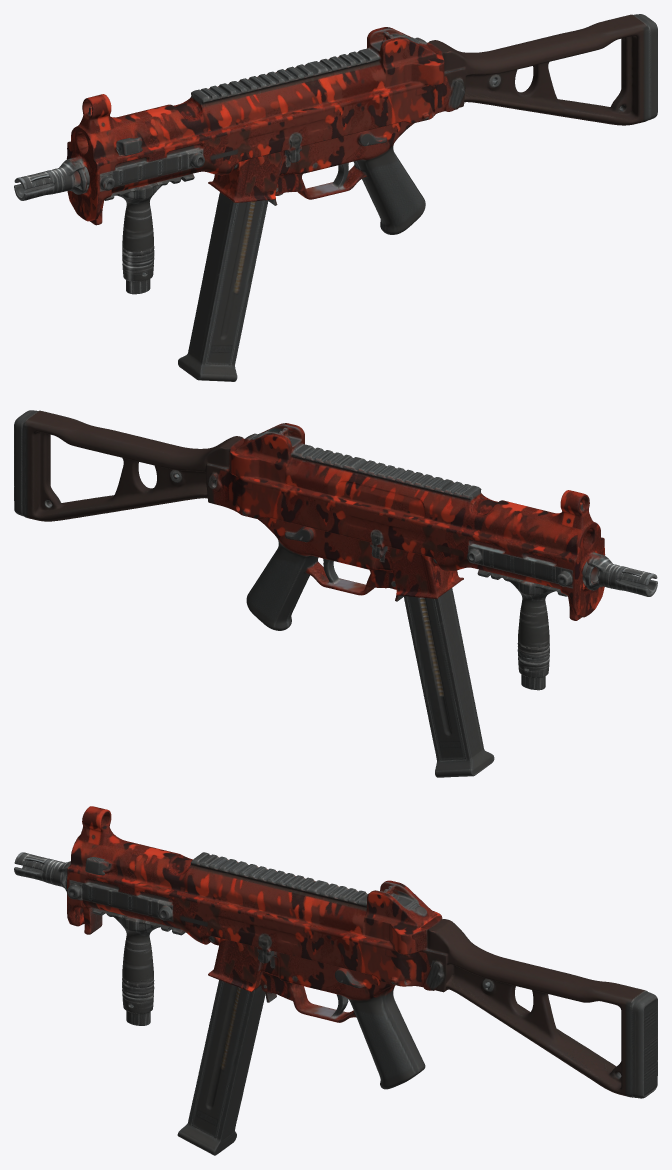
Rendered from Meshy_AI_UMP_1014151901_texture.glb.
3 renders of one model, top to bottom at view 1: azimuth 30°, elevation 25°; view 2: azimuth 150°, elevation 25°; view 3: azimuth 330°, elevation 25°, orthographic.
Size of the model in its own units: 1.9 by 0.8888 by 0.2052.
Materials: 1 (1 with a texture image).
